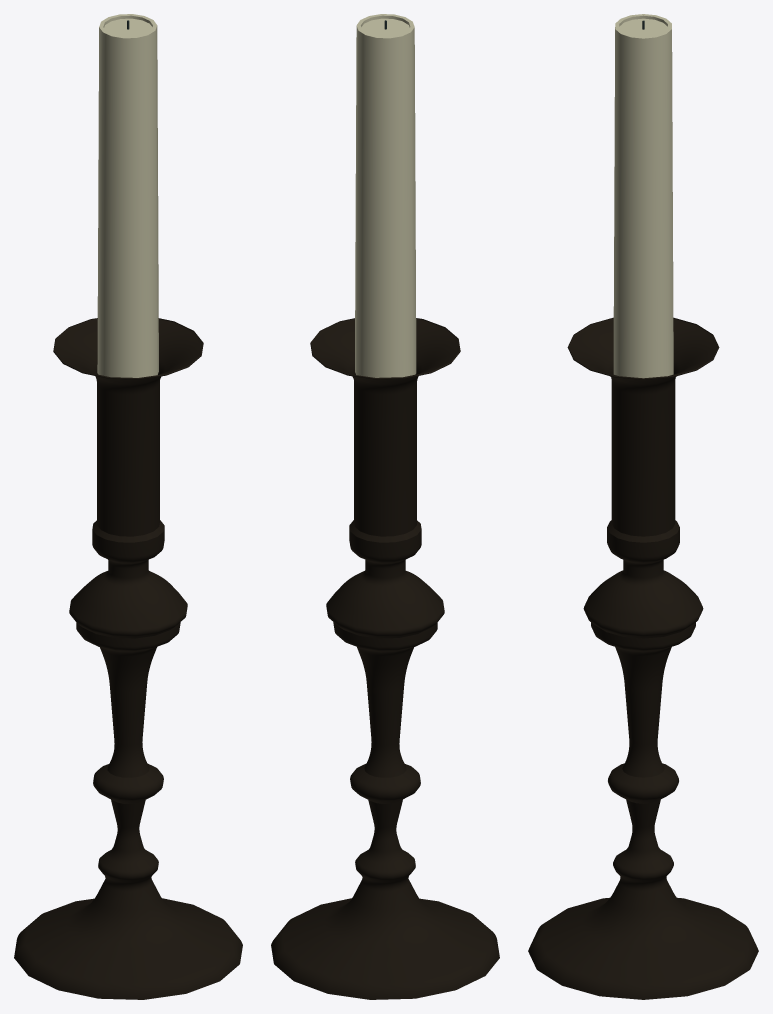
Rendered from Candle3.fbx.
3 views of the same model, side by side, from view 1: azimuth 30°, elevation 25°; view 2: azimuth 150°, elevation 25°; view 3: azimuth 270°, elevation 25° (orthographic).
Visible parts, largest first — view 1: Candle3; view 2: Candle3; view 3: Candle3.
Boxes of the visible parts, <box> form: Candle3: <box>14,14,242,999</box>; Candle3: <box>271,14,499,999</box>; Candle3: <box>528,14,758,999</box>.
Size of the model in its own units: 11.82 by 52.57 by 11.82.
